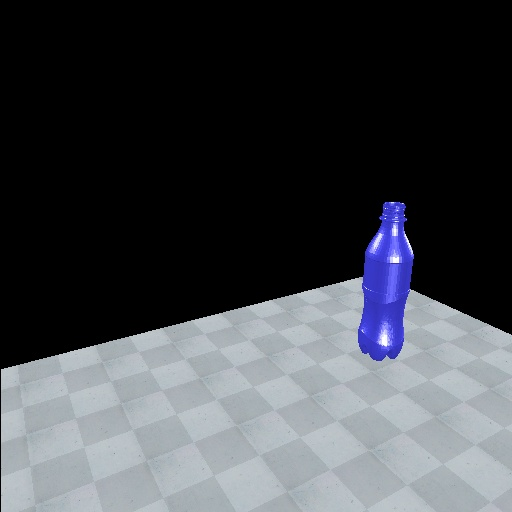bottle: (356, 199, 418, 363)
